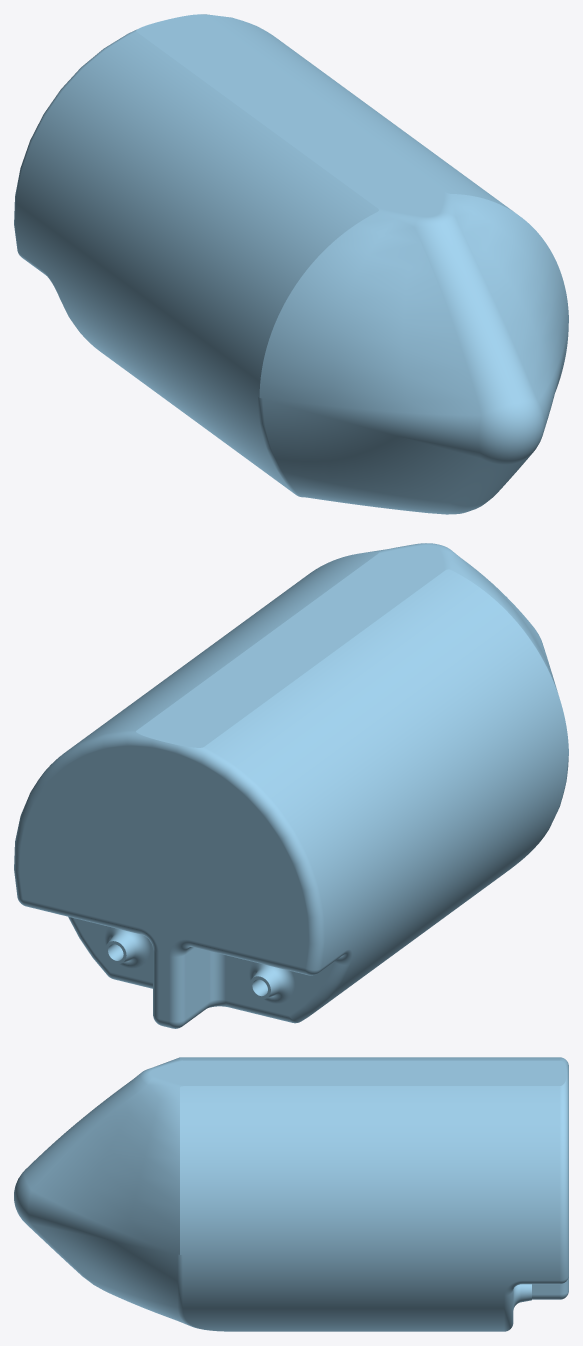
The model's file is ripc_usv.dae.
3 views of the same model, one above another, from view 1: azimuth 30°, elevation 25°; view 2: azimuth 150°, elevation 25°; view 3: azimuth 270°, elevation 25° (orthographic). The views are drawn at different scales.
Visible parts, largest first — view 1: ID2; view 2: ID2; view 3: ID2.
Part boxes in pixels (x1,y1,x2,y2): ID2: [14, 14, 568, 514]; ID2: [14, 543, 568, 1028]; ID2: [14, 1057, 568, 1331].
Bounding box in the file's own units: 0.762 × 1.52 × 0.6767.
